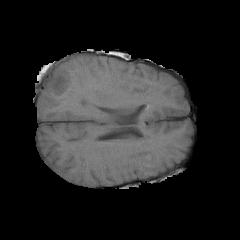glioma: (41, 67, 89, 105)
